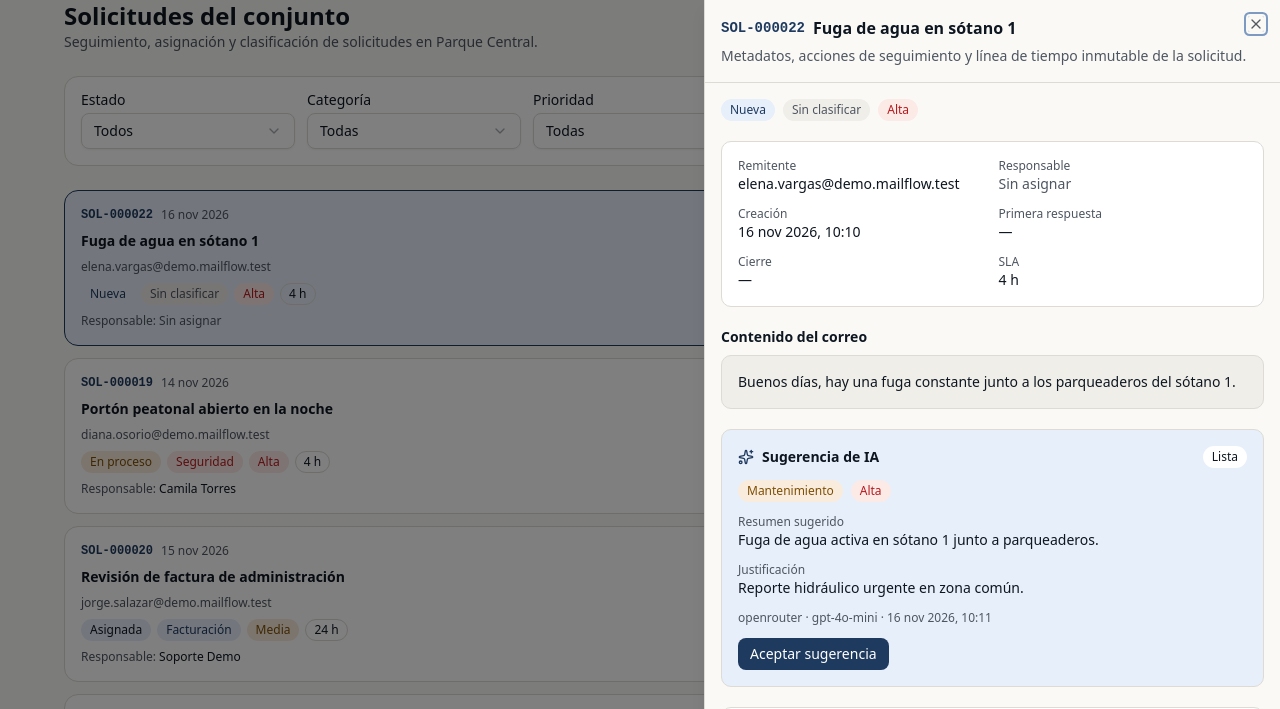
Test: SolicitudesPage · acciones T2, T3, T4, T7→T4, 409 e invalidaciones › T4 (reclasificar) y T7→T4 (aceptarSugerencia): aplican cambios con versionEsperada e invalidan consultas
Expected: the text "Fuga de agua activa en sótano 1 junto a parqueaderos." is shown, left=738, top=530, right=1099, bottom=549
Expected: the text "openrouter · gpt-4o-mini · 16 nov 2026, 10:11" is shown, left=738, top=609, right=992, bottom=626
Click the button "Aceptar sugerencia": [813, 654] box left=738, top=638, right=889, bottom=670
(page scrolled)
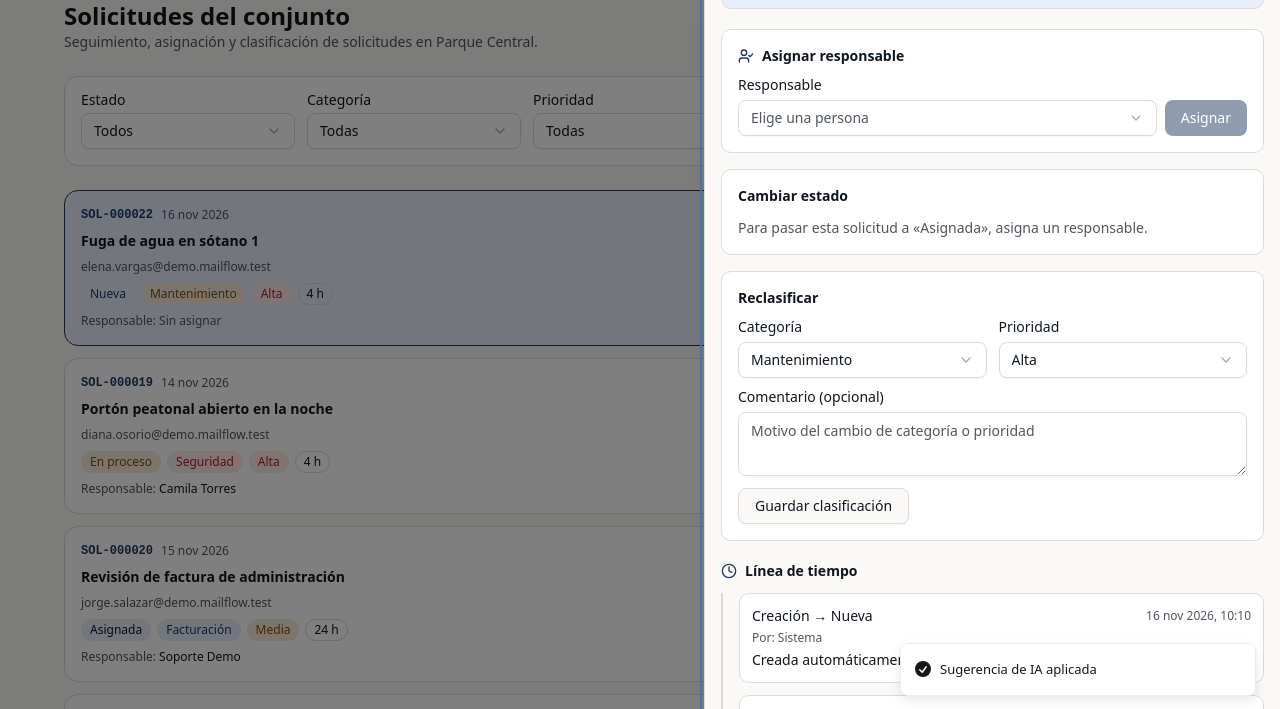
Expected: the text "Sugerencia de IA aplicada" is shown, left=940, top=660, right=1097, bottom=679
# Reclasificar manualmente ahora con versión 2
Click the dropdown named "categoría": [862, 360] box left=738, top=342, right=986, bottom=378
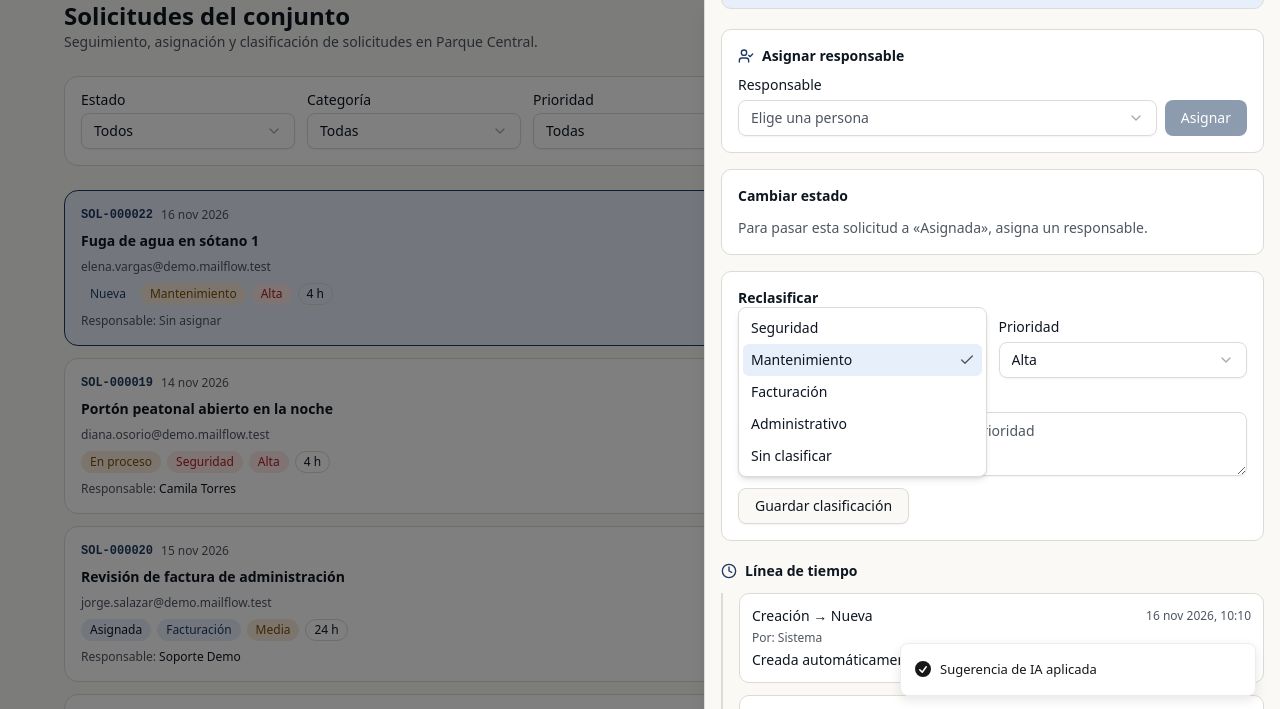
Click the option "Seguridad": [785, 328] box left=751, top=318, right=818, bottom=337
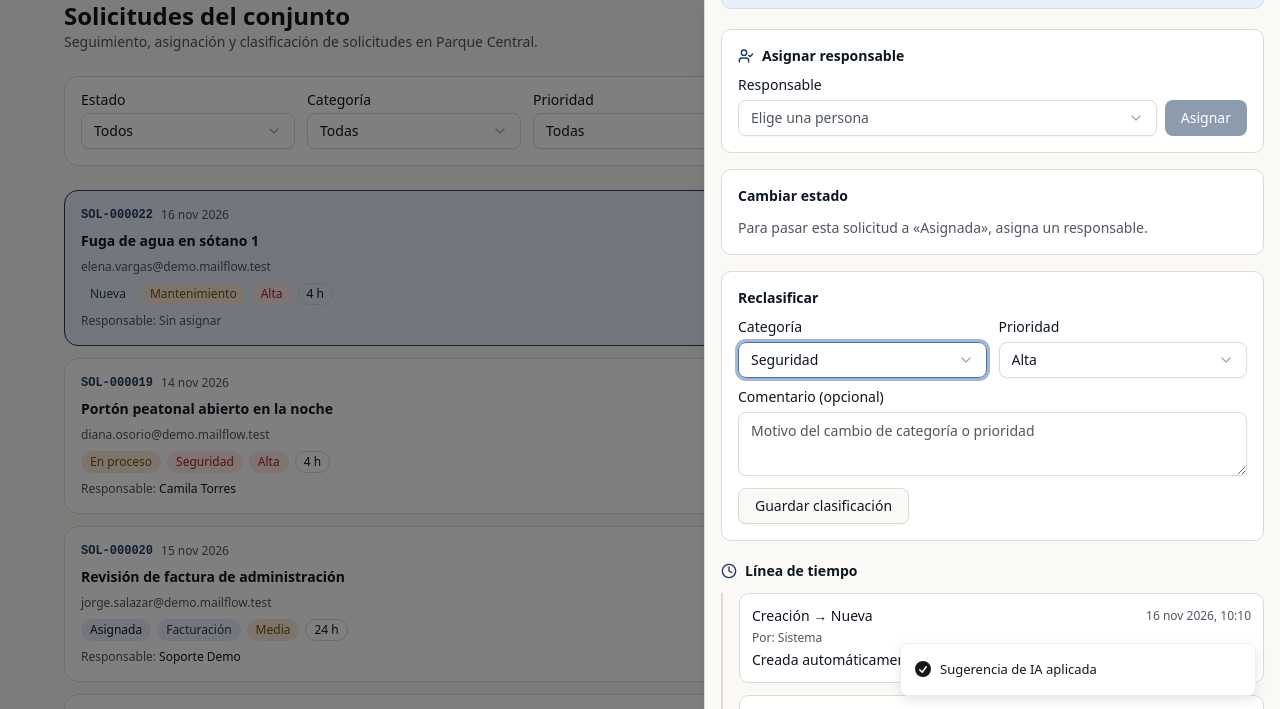
In the text box labelled "Comentario (opcional)": [992, 444] box left=738, top=412, right=1247, bottom=476, type "Escalada a seguridad"
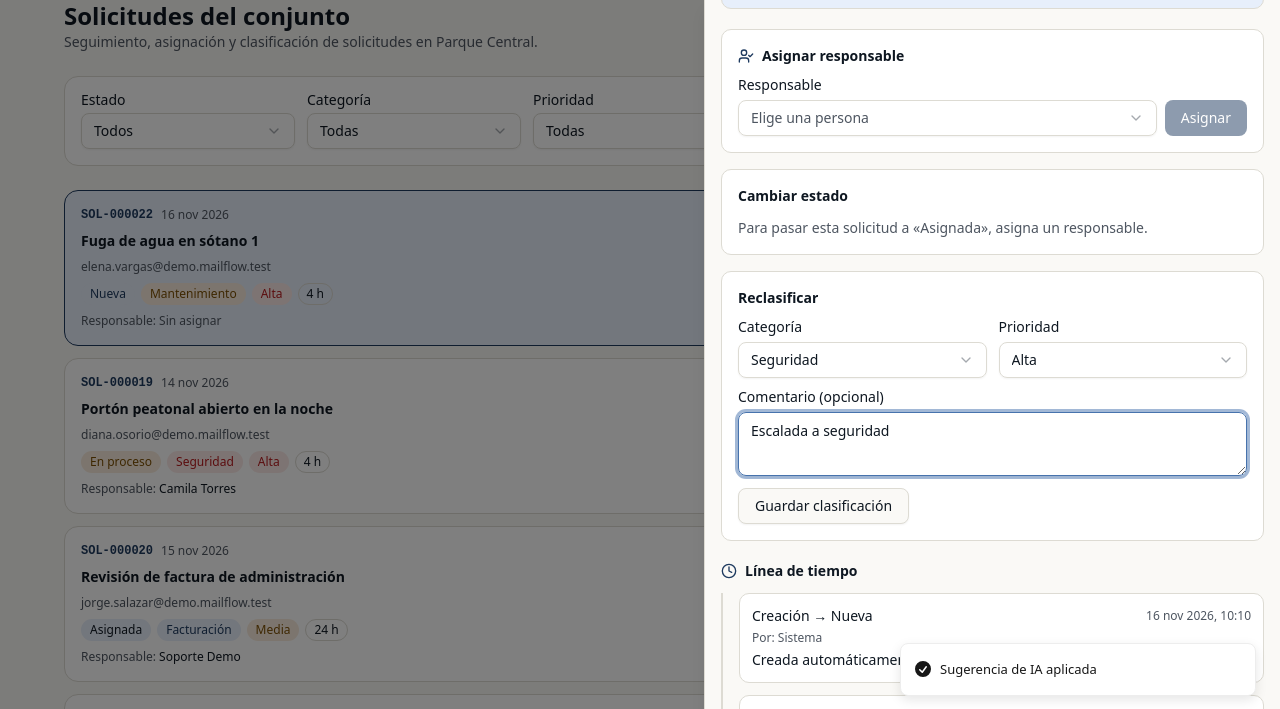
Click the button "Guardar clasificación": [824, 506] box left=738, top=488, right=909, bottom=524
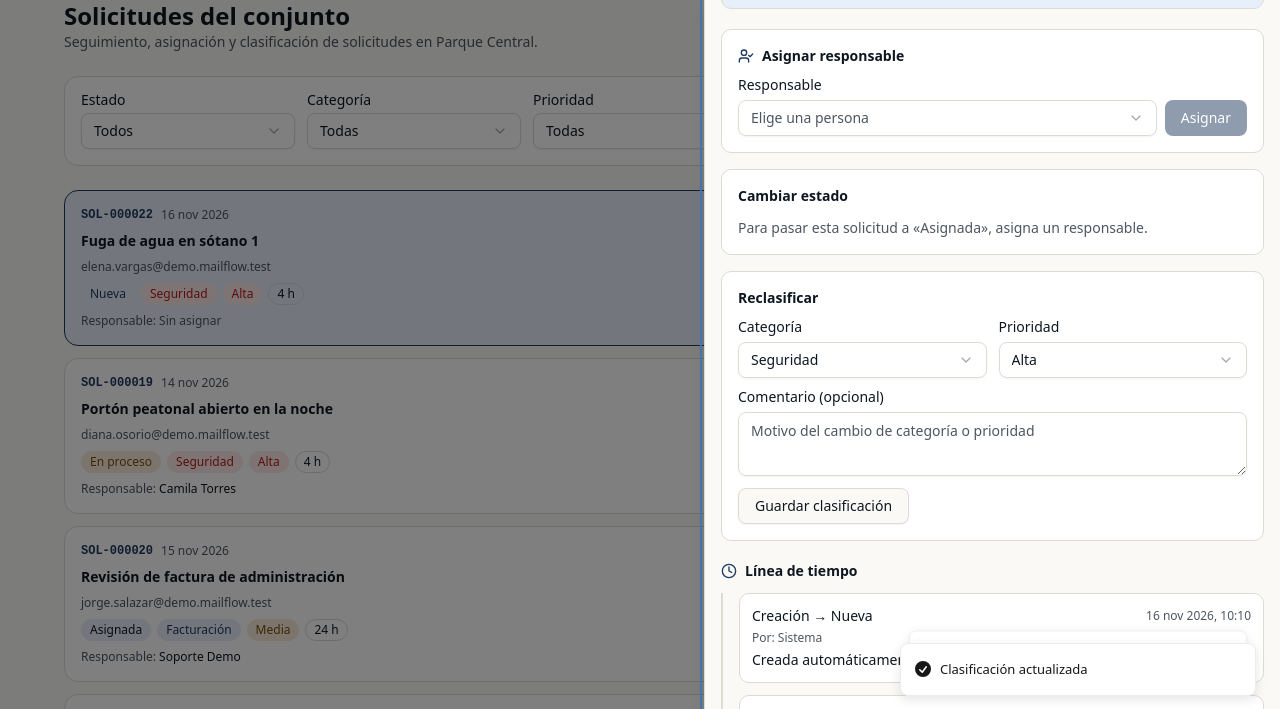
Expected: the text "Clasificación actualizada" is shown, left=940, top=660, right=1088, bottom=679
